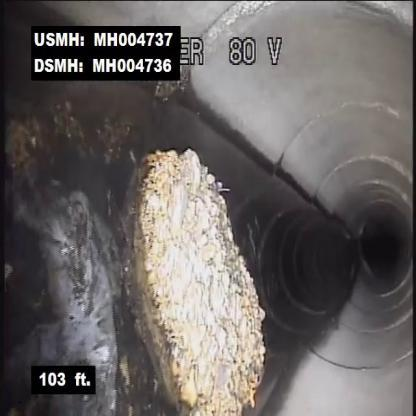Obstacle: (111, 126, 280, 415)
